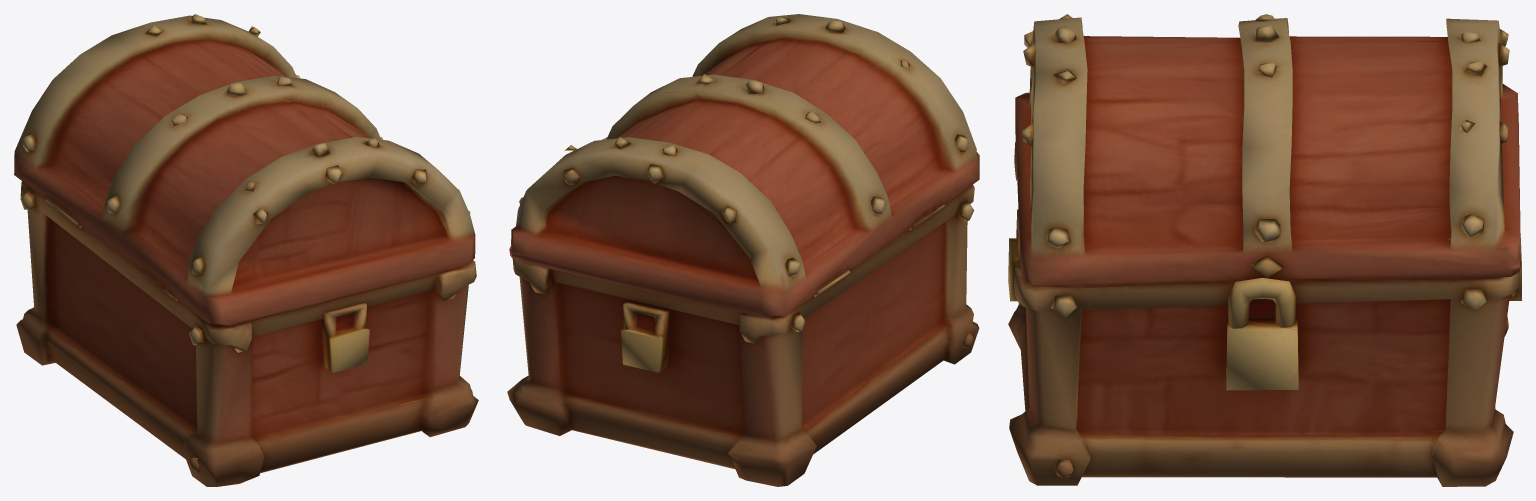
Rendered from f614bea1-treasure-chest.glb.
3 views of the same model, side by side, from view 1: azimuth 30°, elevation 25°; view 2: azimuth 150°, elevation 25°; view 3: azimuth 270°, elevation 25° (orthographic). The views are drawn at different scales.
Parts seen in each view (by area): view 1: tripo_node_2e838fe8-7b5e-4344-af46-c310599365e1; view 2: tripo_node_2e838fe8-7b5e-4344-af46-c310599365e1; view 3: tripo_node_2e838fe8-7b5e-4344-af46-c310599365e1.
Part boxes in pixels (x1,y1,x2,y2): tripo_node_2e838fe8-7b5e-4344-af46-c310599365e1: (14,14,478,486); tripo_node_2e838fe8-7b5e-4344-af46-c310599365e1: (507,14,979,486); tripo_node_2e838fe8-7b5e-4344-af46-c310599365e1: (1008,14,1521,486).
Bounding box in the file's own units: 0.8027 × 0.8105 × 0.998.
1 material, 1 textured.
